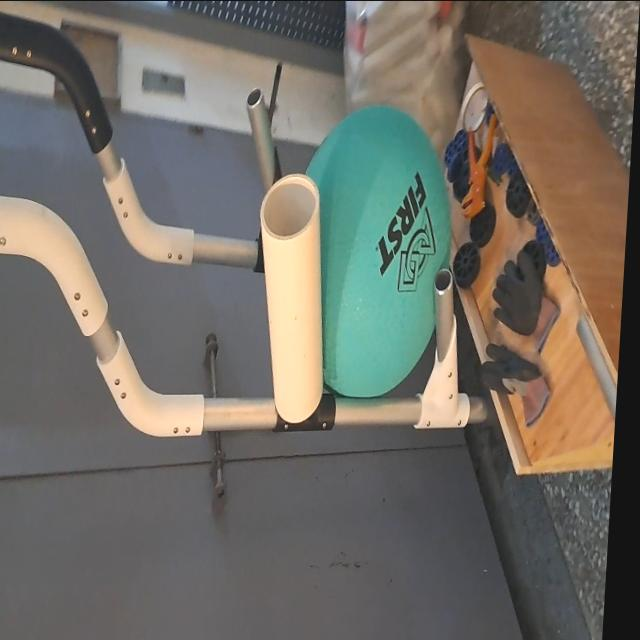ALGAE: (285, 99, 463, 395)
CORAL: (245, 162, 339, 428)
